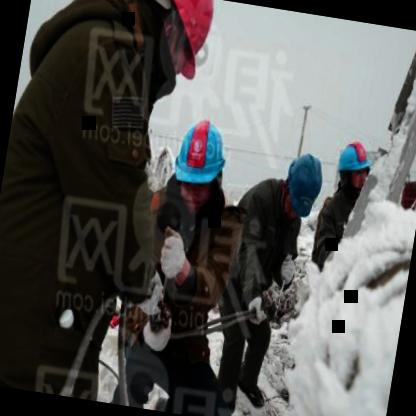helmet: (111, 0, 222, 102), (168, 106, 230, 214), (272, 147, 332, 230), (333, 137, 374, 195)
